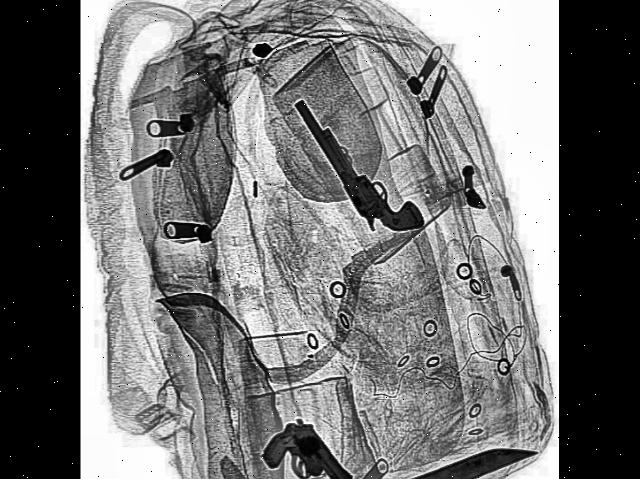Gun: (294, 59, 426, 270), (258, 401, 354, 479)
Knife: (253, 432, 537, 479)
